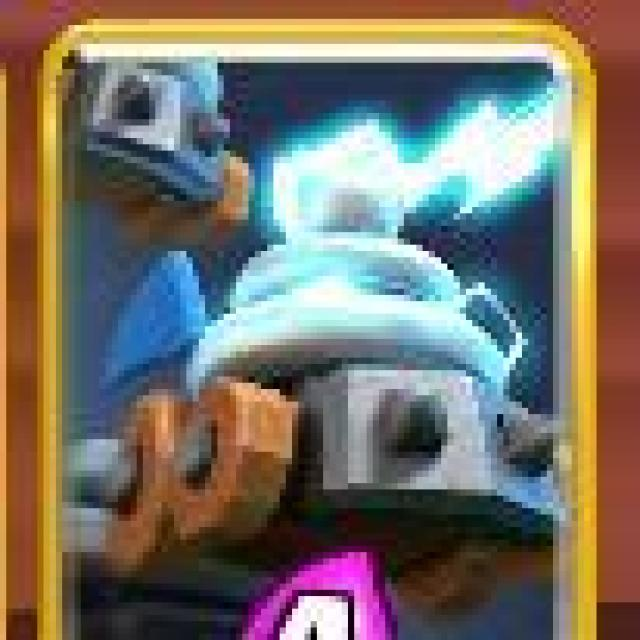Zappies: (45, 28, 596, 640)
